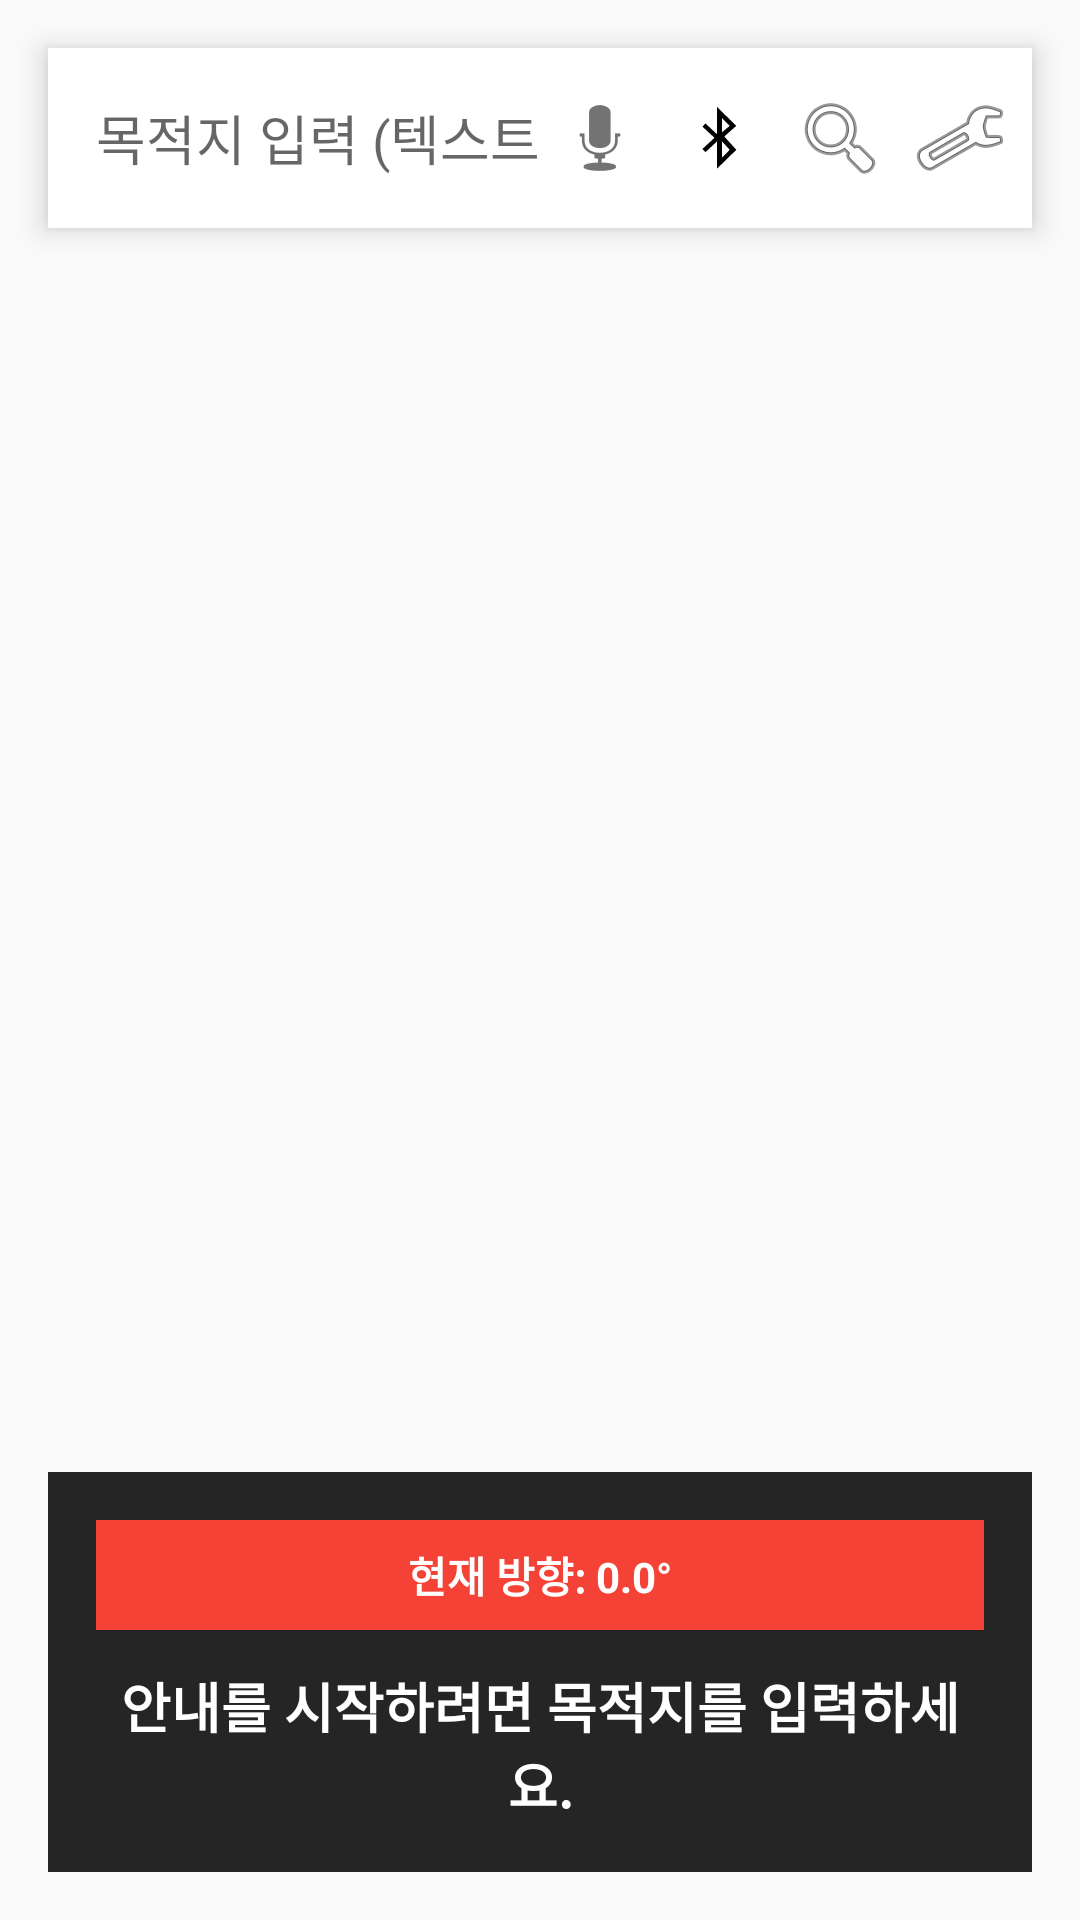

Locate icon controls on the screen. Image size 1080*1920, boxes as (x1, y1, x2, y2).
manage: (917, 105, 1003, 171)
search: (804, 103, 876, 174)
speak now: (579, 105, 621, 171)
